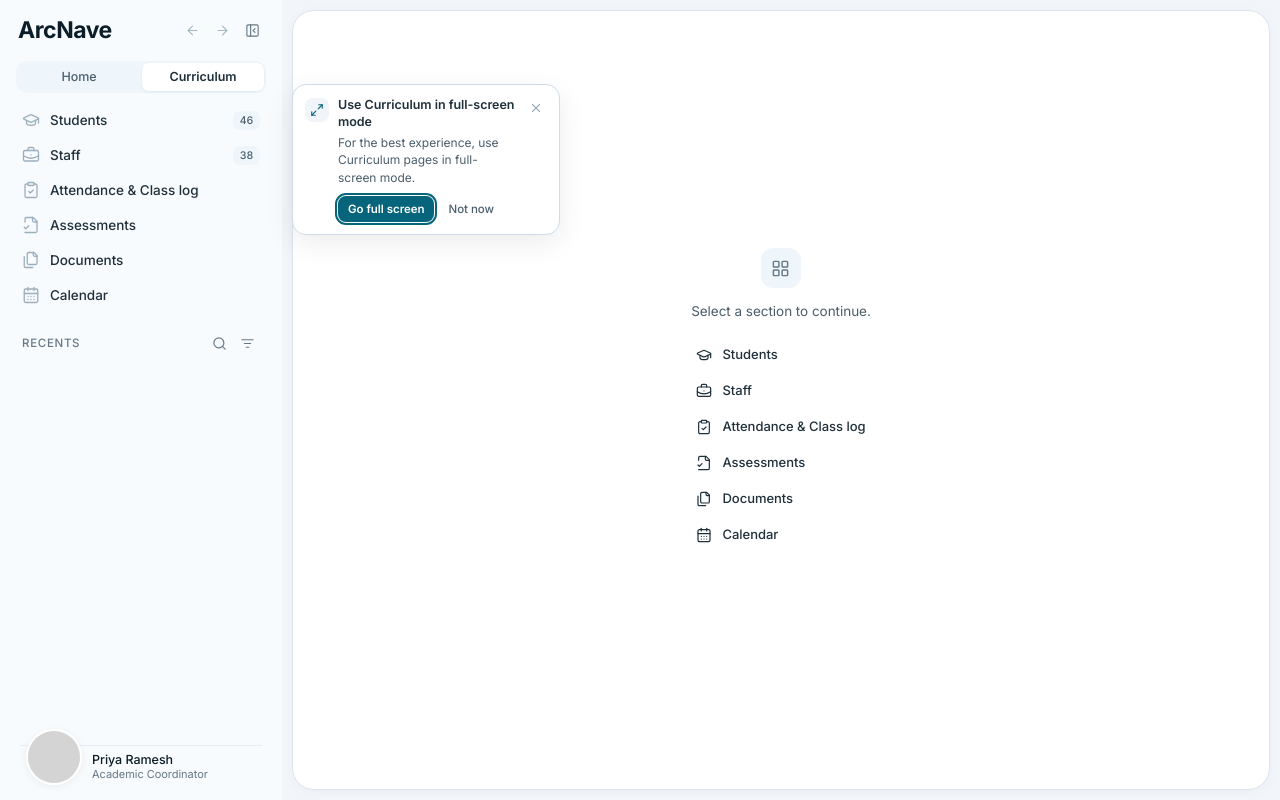
Test: Principal screens › states the head of department gap rather than leaving a blank cell
The width and height of the screenshot is (1280, 800).
Click the button with aria-label "open profile" at (141, 767), box [20,746,262,788]
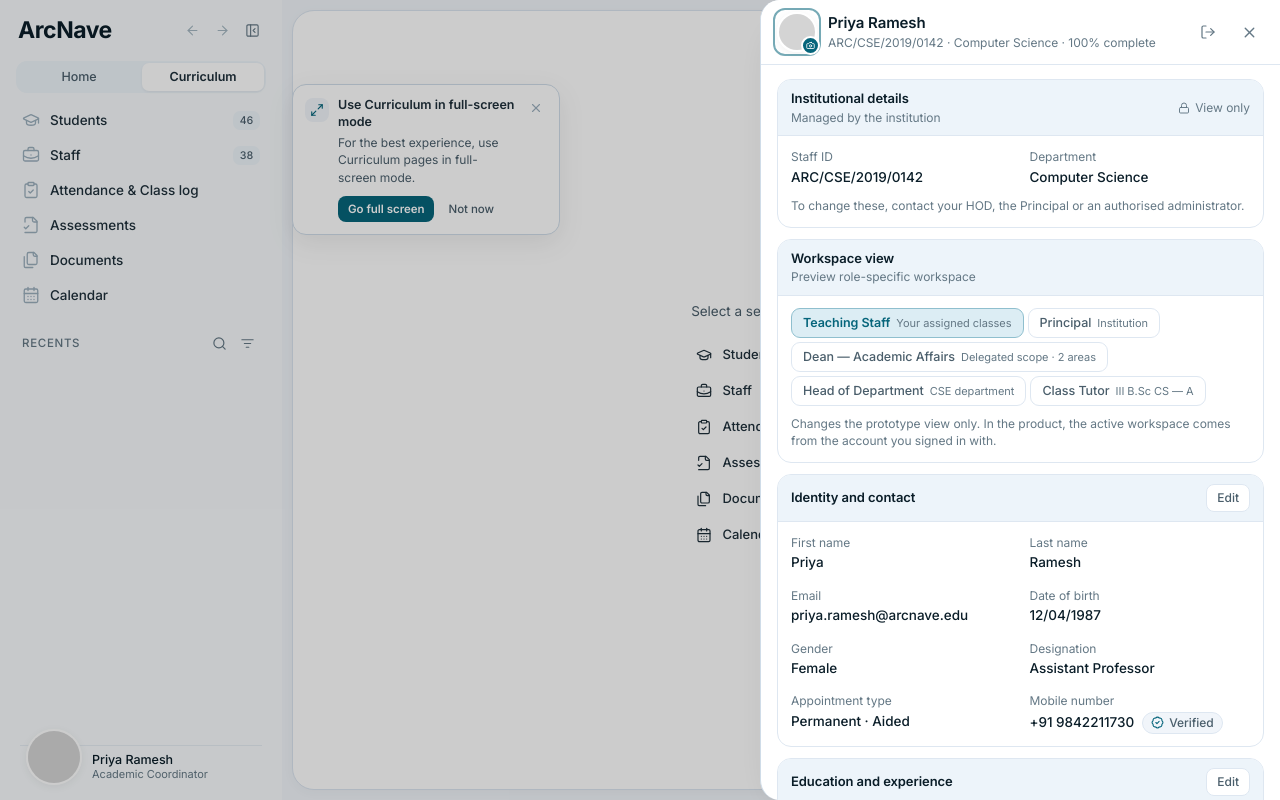
Click the radio button labelled "Principal" at (1094, 323), box [1028,308,1160,338]
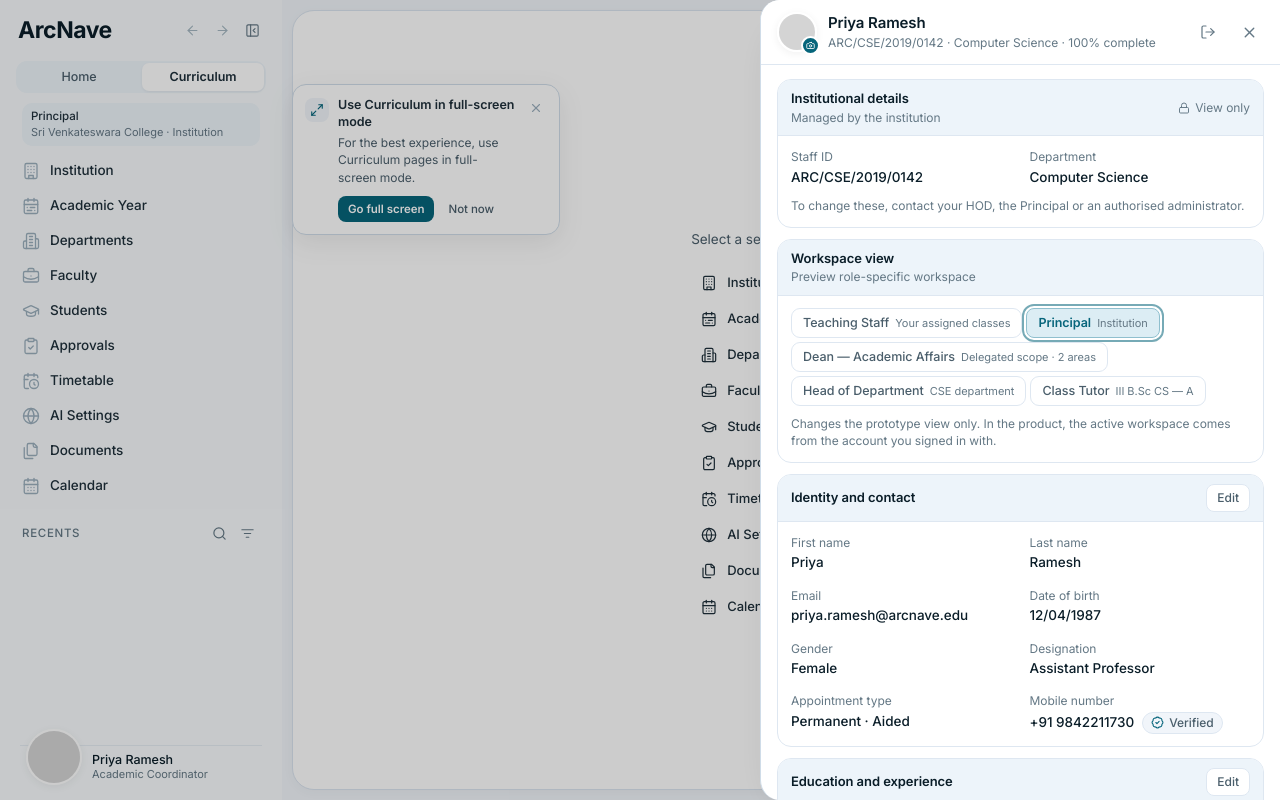
Click the button named "close profile" at (1249, 32), box [1234,17,1264,47]
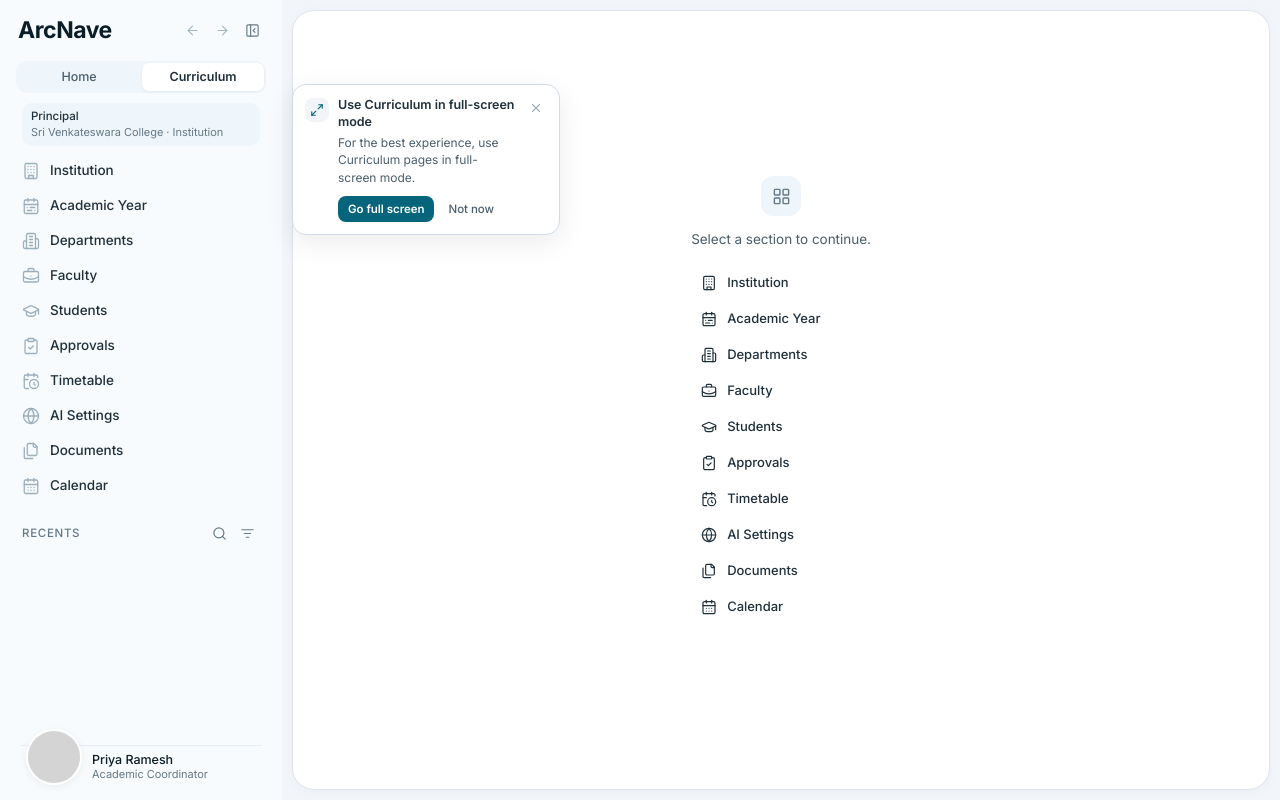
Click the link "Departments" below "Sri Venkateswara College" at (78, 241), box [22,232,133,250]
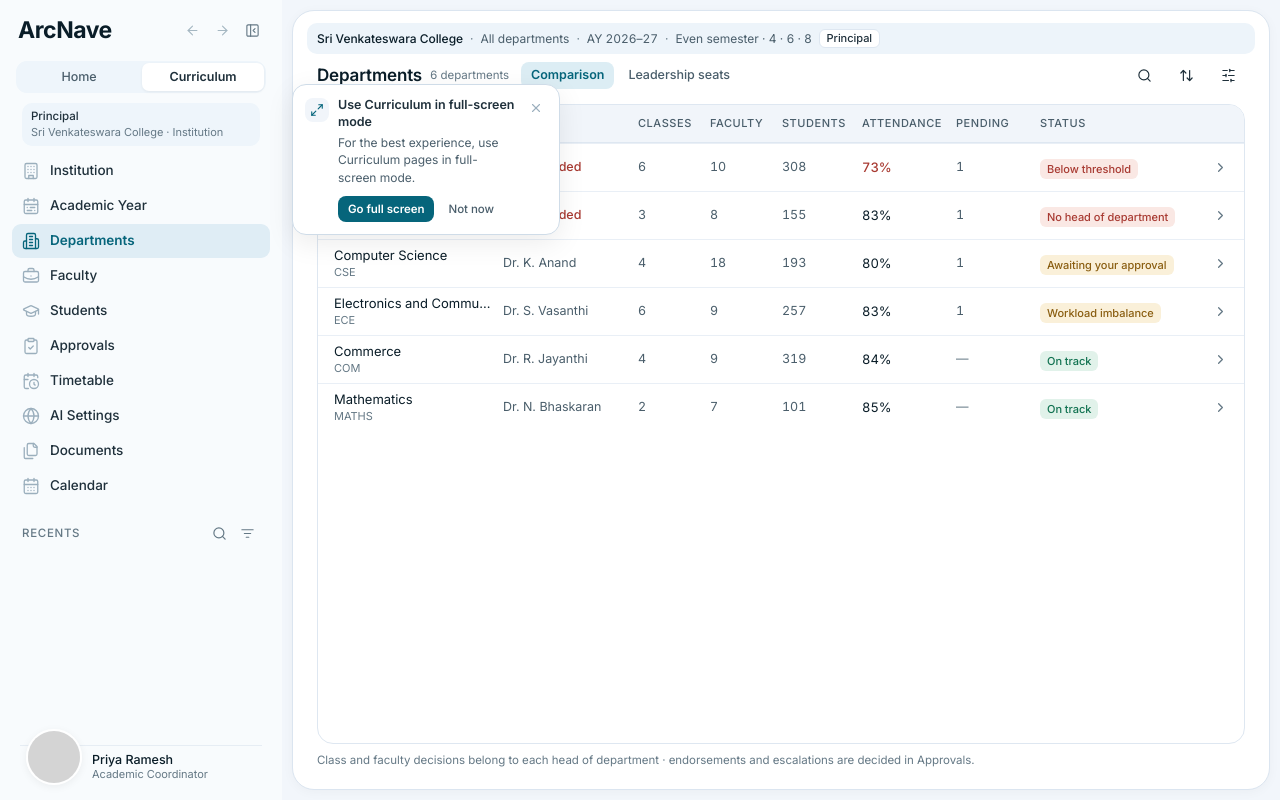
Result: the text "Not recorded" is shown at [503,207,581,222]
